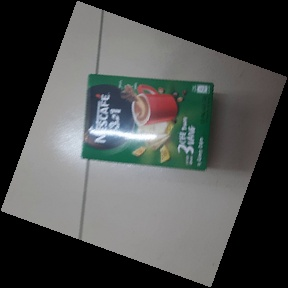Nes Rang: (80, 72, 216, 172)
